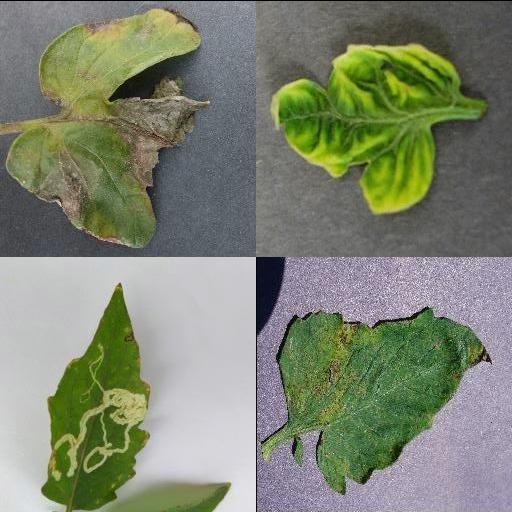Late Blight: (5, 9, 211, 247)
Leaf Miner: (40, 279, 153, 512)
Septoria: (274, 307, 492, 495)
Yellow Leaf Curl Virus: (270, 41, 462, 219)
